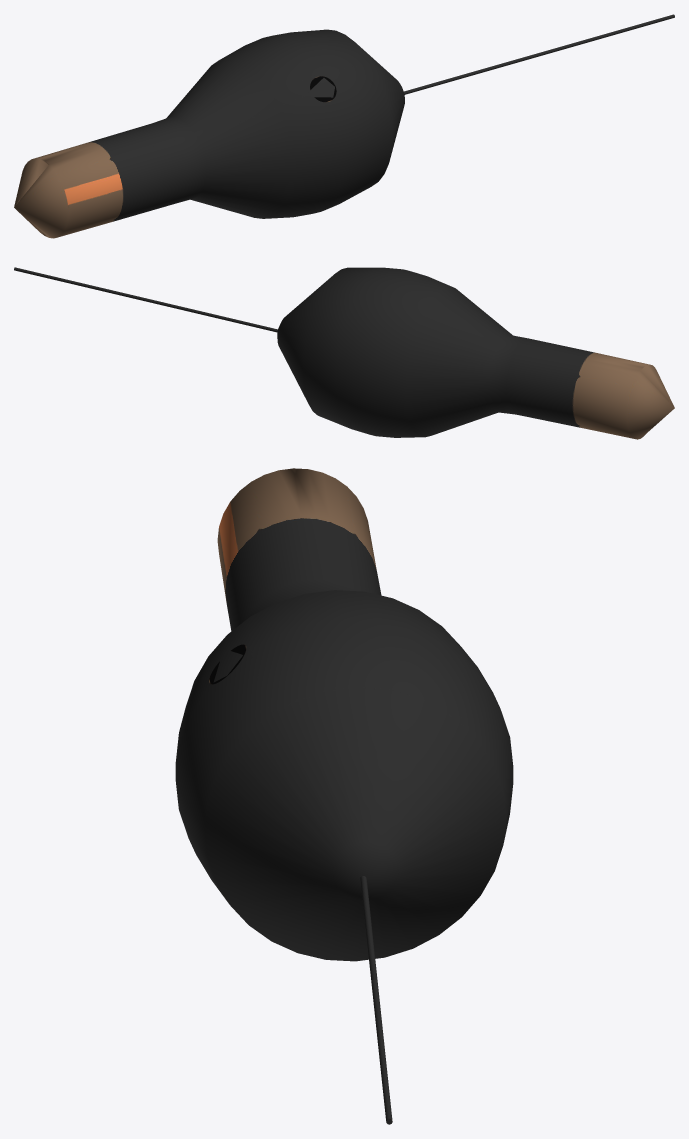
The model's file is PSAT.glb.
The picture shows the model from 3 angles, top to bottom: view 1: azimuth 30°, elevation 25°; view 2: azimuth 150°, elevation 25°; view 3: azimuth 270°, elevation 25°; orthographic projection. The views are drawn at different scales.
Visible parts, largest first — view 1: MiniPAT; view 2: MiniPAT; view 3: MiniPAT.
Boxes of the visible parts, box(x1,y1,x2,y2) form: MiniPAT: box(14, 14, 674, 238); MiniPAT: box(14, 267, 674, 439); MiniPAT: box(175, 468, 513, 1124).
Size of the model in its own units: 2.02 by 0.4676 by 0.4656.
Materials: 1 (1 with a texture image).
